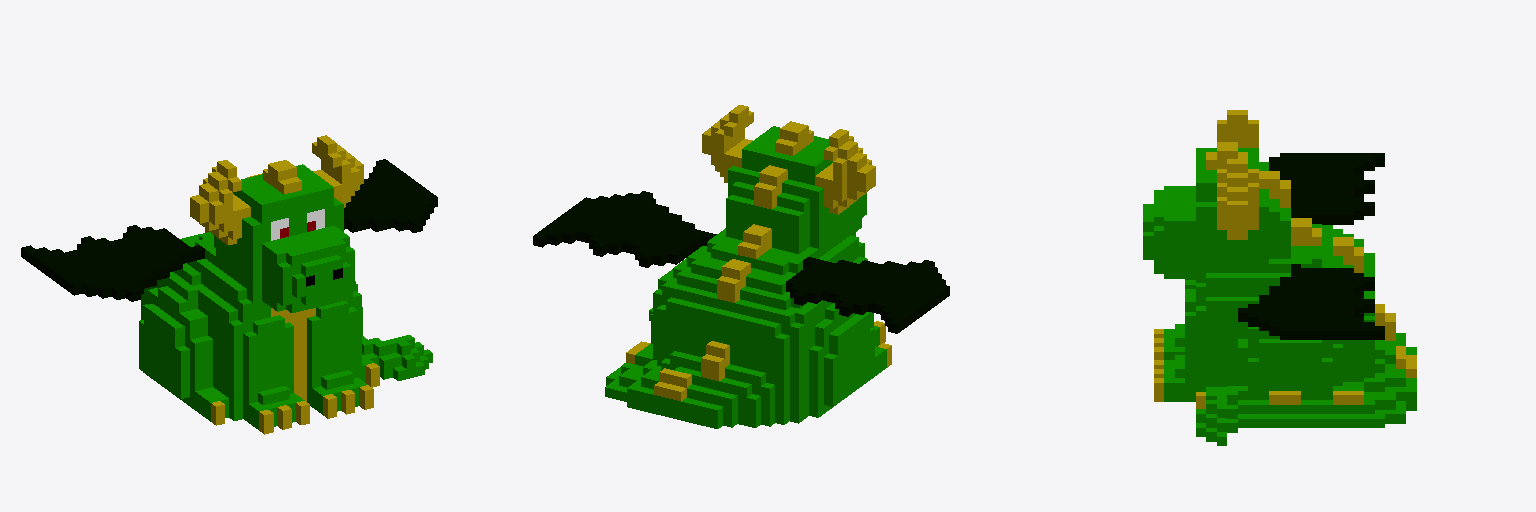
3 views of the same model, side by side, from view 1: azimuth 30°, elevation 25°; view 2: azimuth 150°, elevation 25°; view 3: azimuth 270°, elevation 25° (orthographic).
Visible parts, largest first — view 1: object 1; view 2: object 1; view 3: object 1.
Boxes of the visible parts, box(x1,y1,x2,y2) form: object 1: box(21, 135, 437, 434); object 1: box(533, 105, 949, 428); object 1: box(1143, 110, 1416, 445).
Bounding box in the file's own units: 4 × 2.5 × 2.6.
Materials: 1 (1 with a texture image).